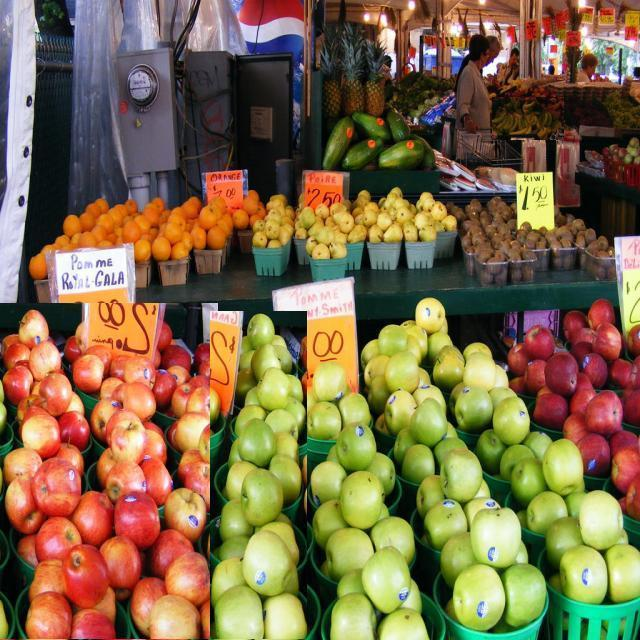Apple: (0, 300, 640, 640), (357, 297, 640, 628), (0, 303, 218, 639), (294, 360, 430, 640), (210, 311, 307, 639), (12, 544, 64, 615), (17, 590, 67, 640)
Banana: (492, 97, 564, 140), (530, 125, 544, 134)
